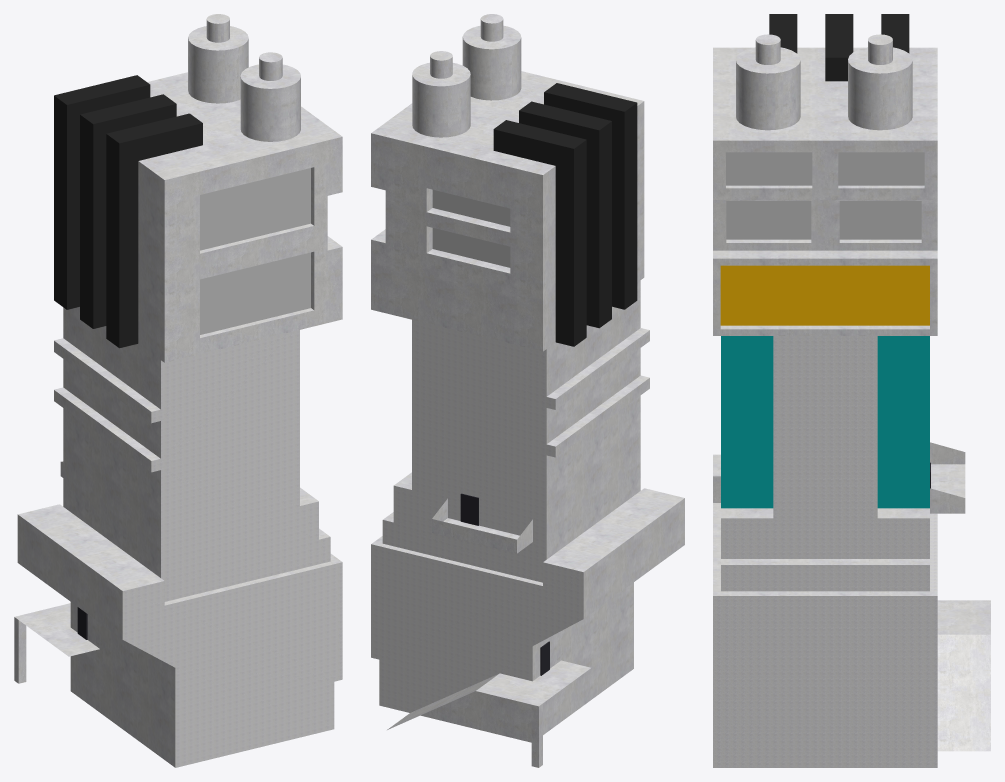
The model's file is Punk1.fbx.
The picture shows the model from 3 angles, left to right: view 1: azimuth 30°, elevation 25°; view 2: azimuth 150°, elevation 25°; view 3: azimuth 270°, elevation 25°; orthographic projection. The views are drawn at different scales.
Parts seen in each view (by area): view 1: punk2_1; view 2: punk2_1; view 3: punk2_1.
Part boxes in pixels (left/top/right/bottom): punk2_1: left=14, top=14, right=342, bottom=767; punk2_1: left=371, top=14, right=684, bottom=767; punk2_1: left=713, top=14, right=990, bottom=767.
Size of the model in its own units: 1770 by 5090 by 1808.
